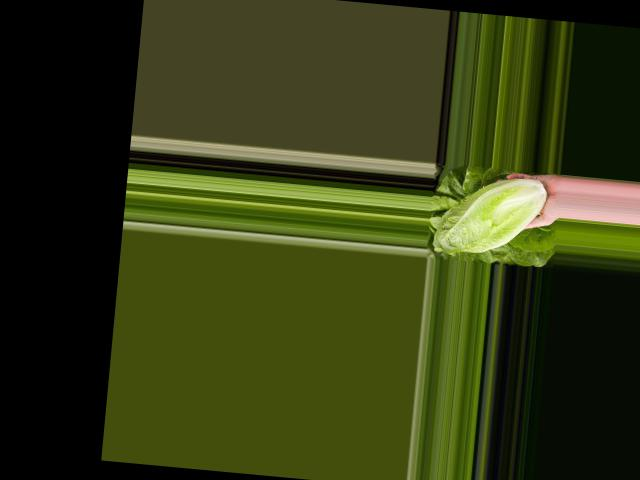lettuce: (431, 167, 550, 262)
